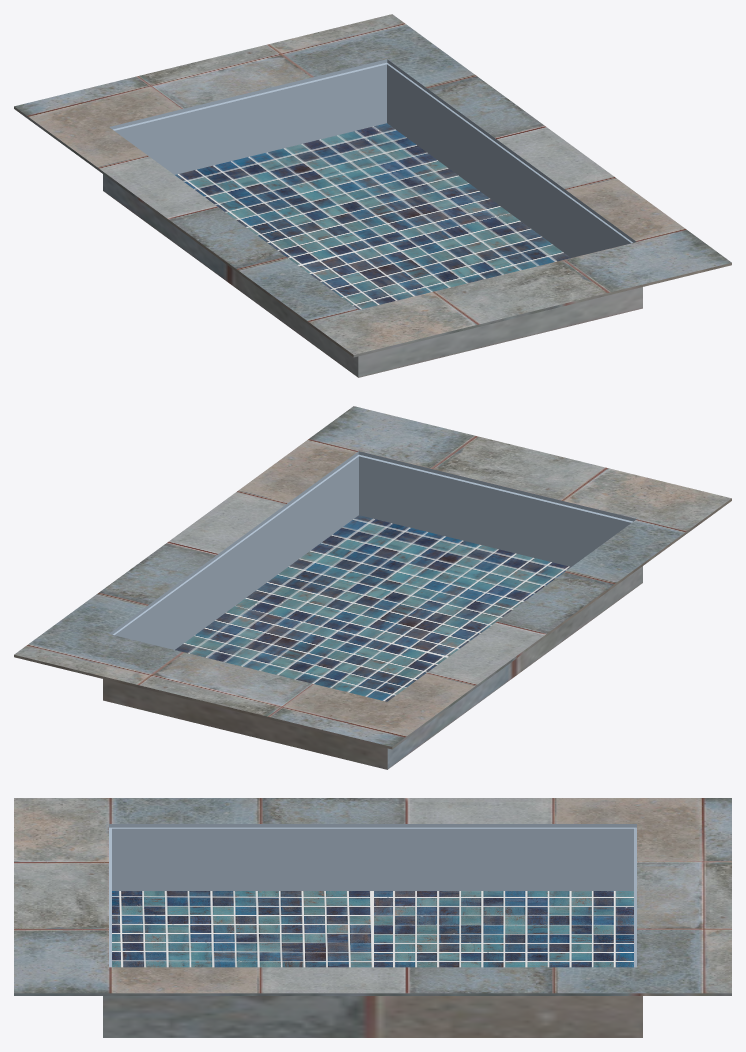
Rendered from PoolFloor.fbx.
3 renders of one model, top to bottom at view 1: azimuth 30°, elevation 25°; view 2: azimuth 150°, elevation 25°; view 3: azimuth 270°, elevation 25°, orthographic. The views are drawn at different scales.
Parts seen in each view (by area): view 1: PoolBase; view 2: PoolBase; view 3: PoolBase.
Boxes of the visible parts, x1,y1,x2,y2 form: PoolBase: (14, 14, 731, 377); PoolBase: (14, 406, 731, 769); PoolBase: (14, 798, 731, 1037).
Bounding box in the file's own units: 1800 × 300 × 2800.
